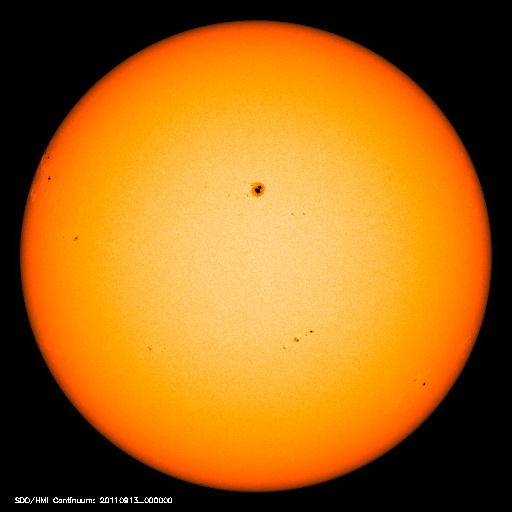sunspot: (241, 172, 315, 223), (276, 321, 329, 357), (33, 145, 61, 185), (400, 370, 436, 398), (60, 226, 83, 249)
